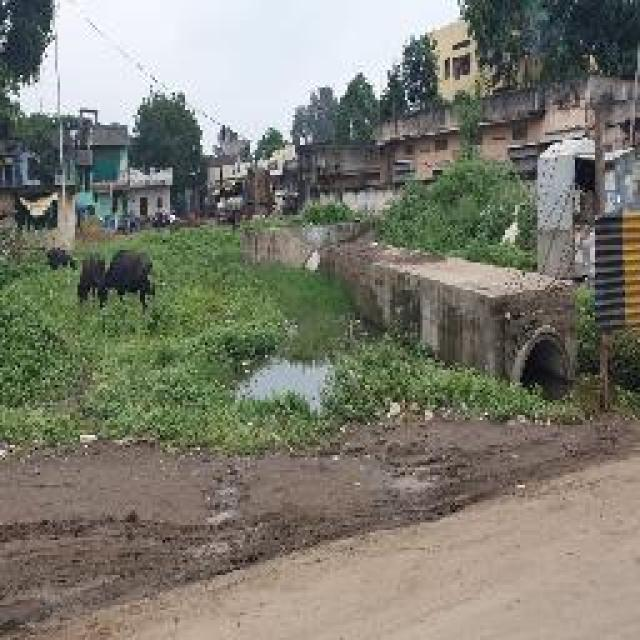waterlogging: (244, 338, 352, 412)
